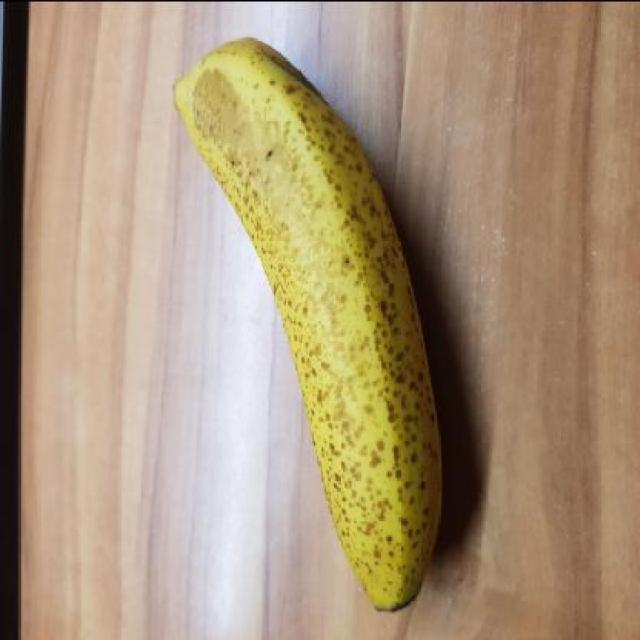Banana: (167, 26, 447, 616)
